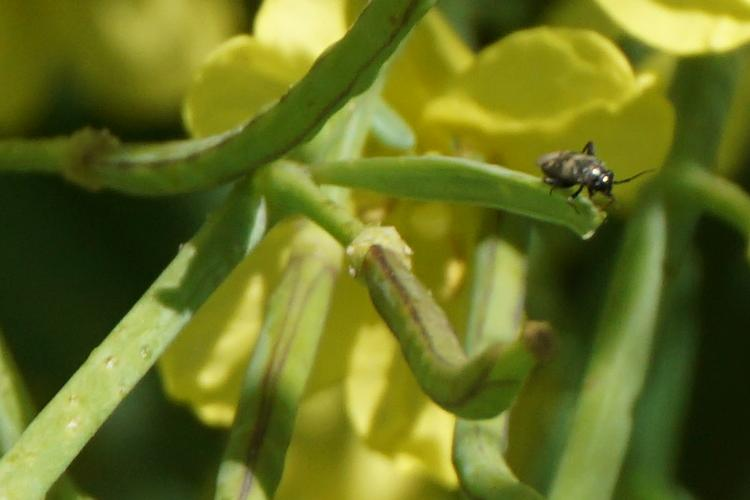pod: (72, 43, 499, 193), (339, 234, 563, 418), (374, 149, 607, 247)
yellow: (286, 29, 728, 149)
